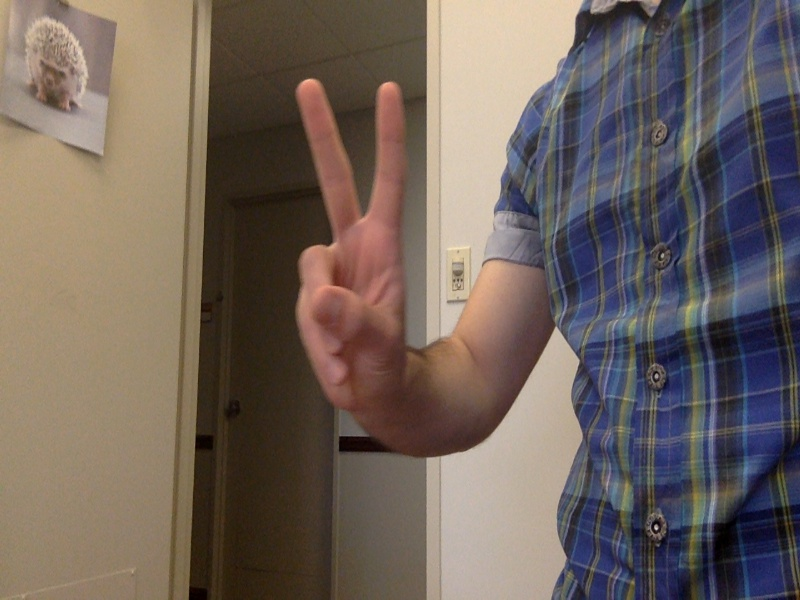2-hand: (288, 74, 409, 417)
